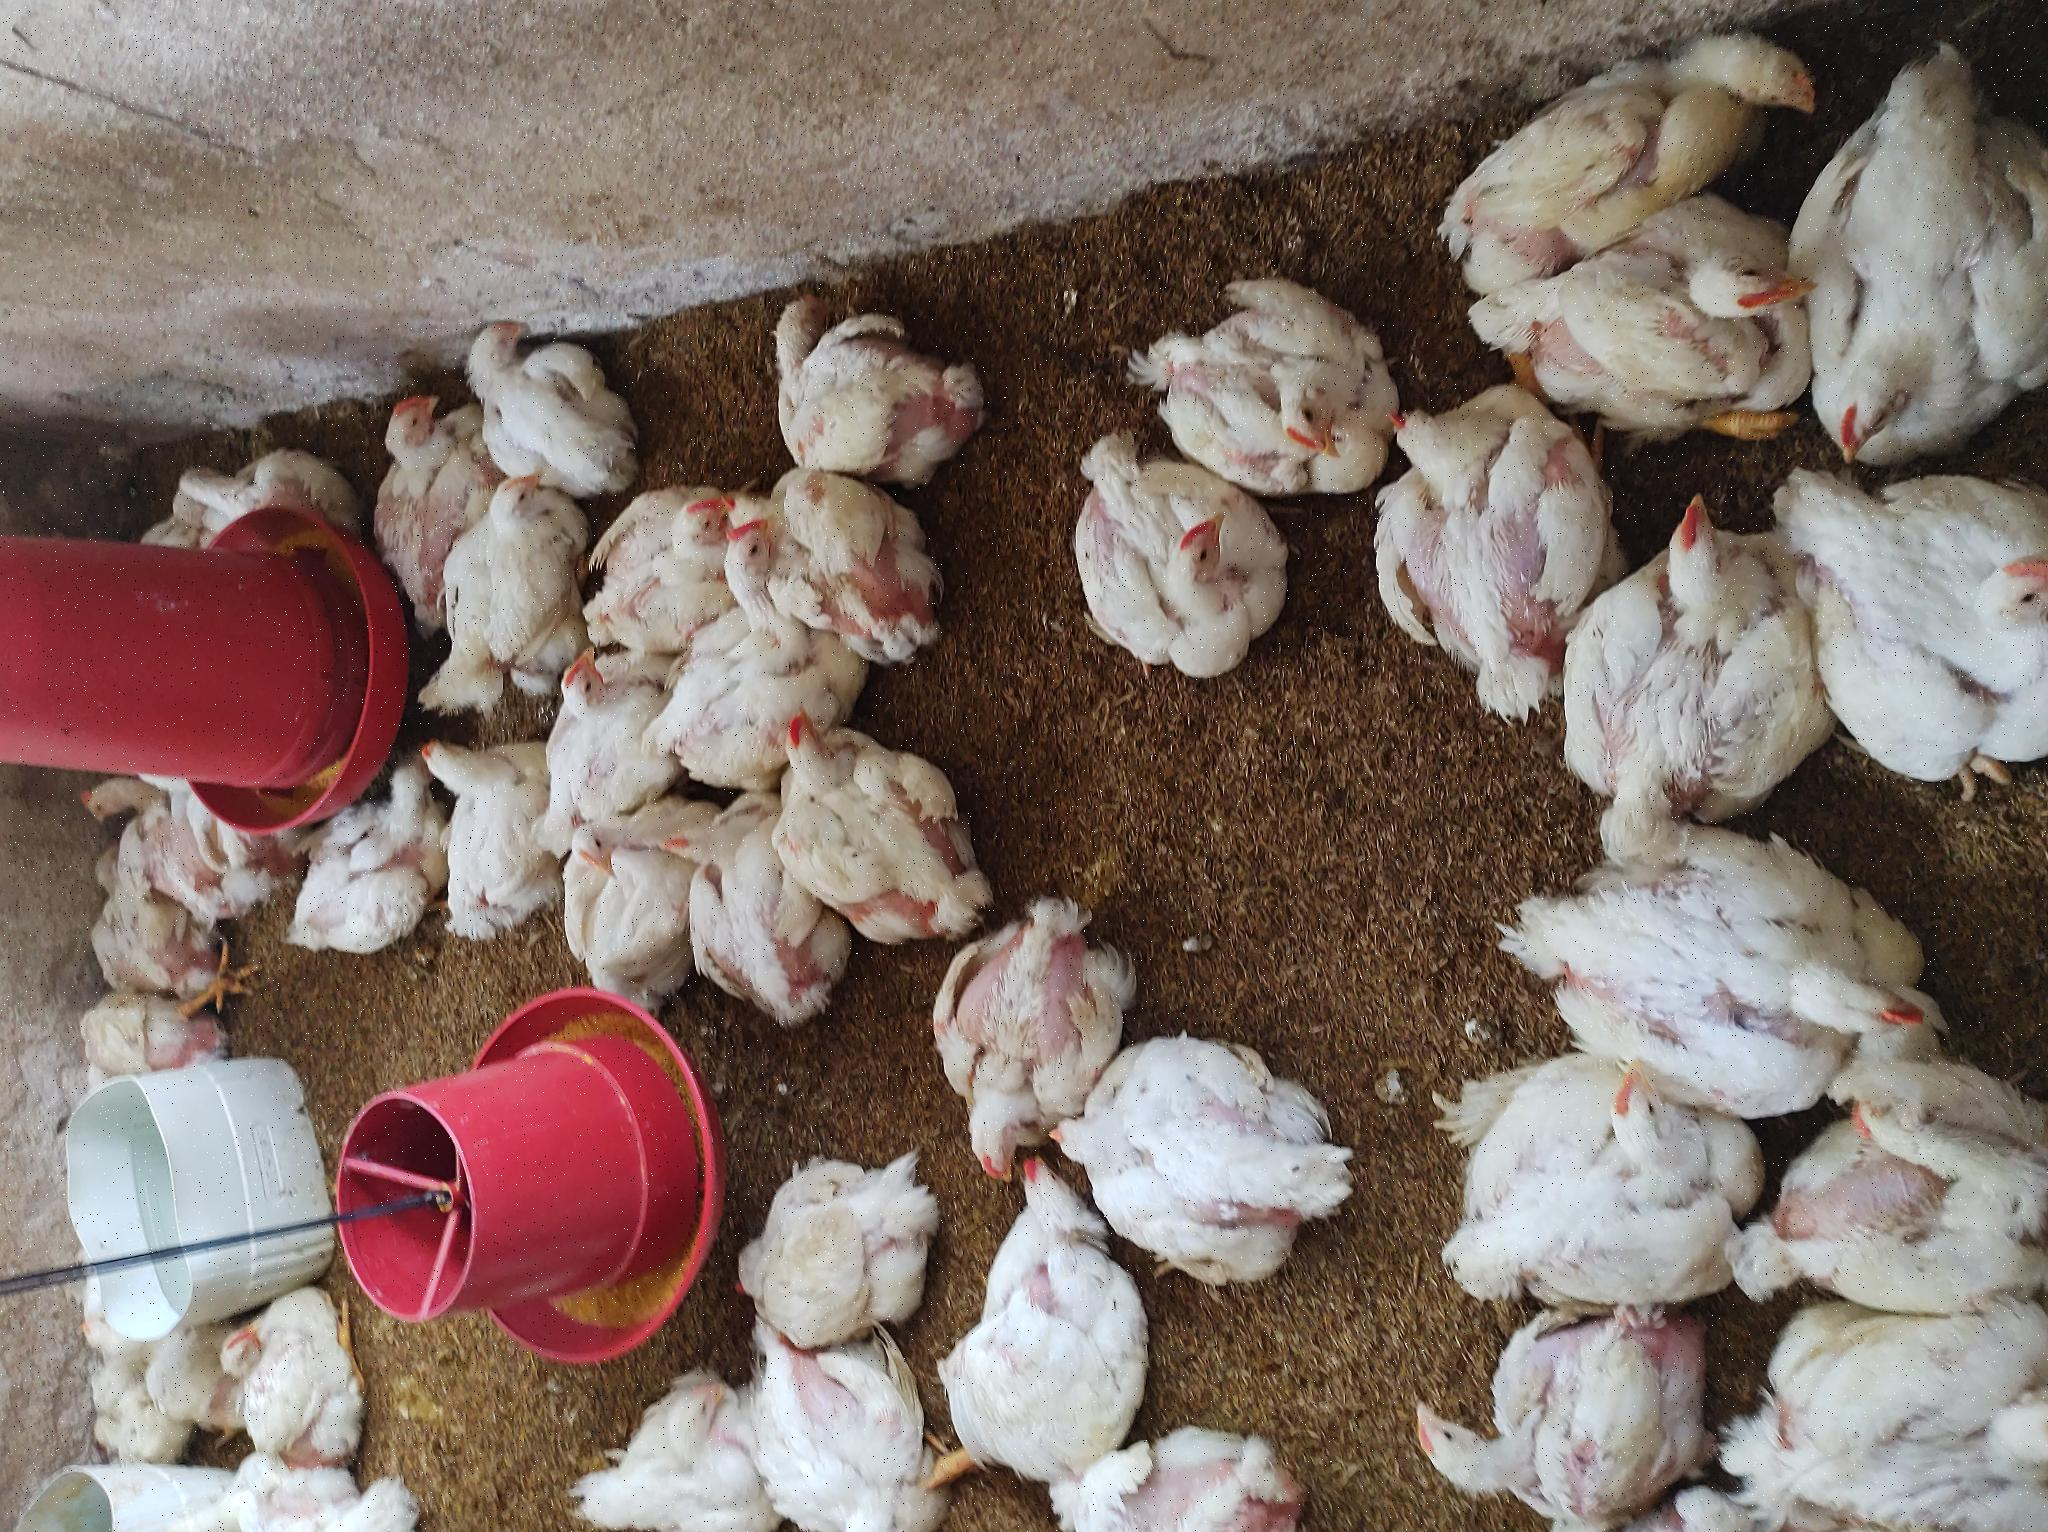Pollos: (251, 1040, 512, 1361), (13, 930, 381, 1151), (354, 940, 668, 1163), (1055, 747, 1289, 1003), (840, 1349, 1157, 1532), (1063, 1143, 1289, 1398), (808, 1078, 1071, 1279), (600, 777, 822, 975), (862, 729, 1047, 956), (211, 706, 394, 933), (504, 661, 727, 838), (2, 558, 175, 755), (566, 272, 780, 431), (1051, 455, 1236, 632), (2, 1389, 209, 1532), (581, 423, 811, 544), (2, 1040, 103, 1303), (883, 574, 1059, 726), (870, 423, 1057, 560), (85, 232, 262, 356), (1364, 1406, 1533, 1532), (524, 77, 640, 241), (211, 1460, 470, 1532), (957, 352, 1141, 446), (2, 185, 79, 396), (742, 542, 882, 655), (450, 79, 537, 222), (891, 715, 1005, 793), (159, 80, 236, 164), (635, 566, 711, 636), (1018, 172, 1075, 257), (706, 79, 764, 143)
